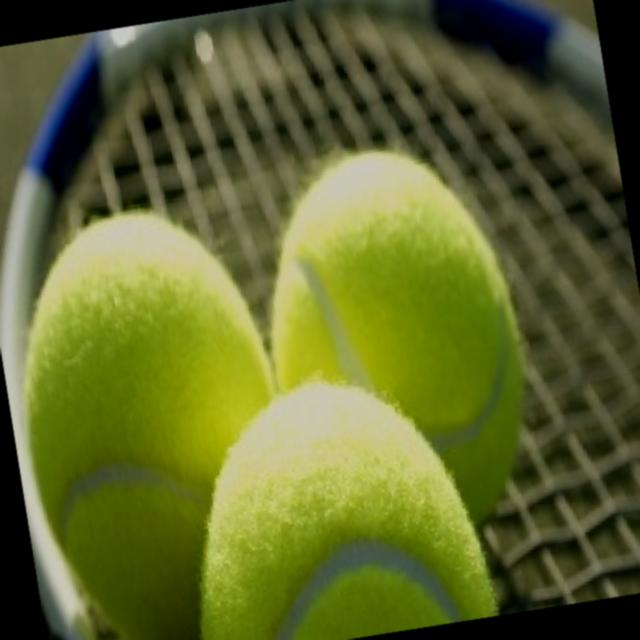Tennis Ball: (24, 211, 278, 640), (269, 148, 528, 532), (201, 387, 500, 640)
